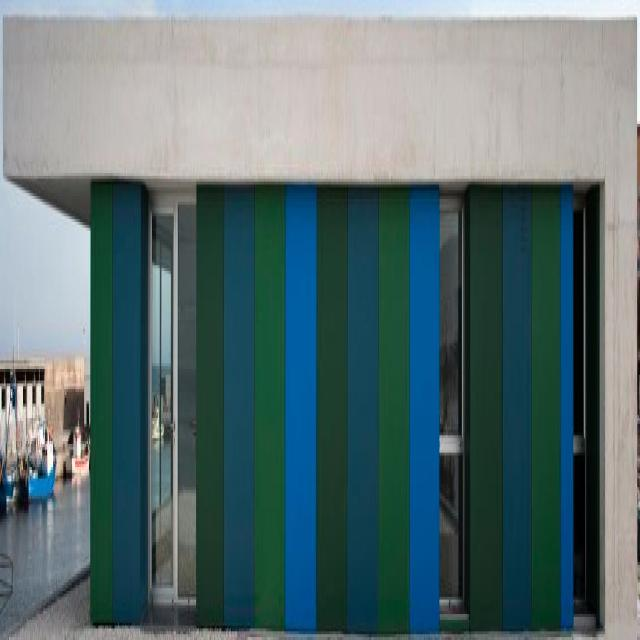door: (147, 188, 197, 606)
window: (439, 207, 465, 603), (573, 209, 586, 607)
